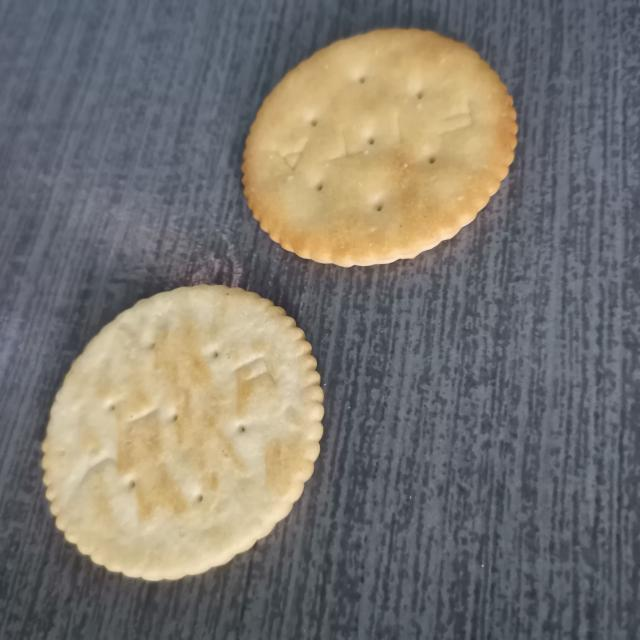Intact: (35, 271, 333, 589), (228, 21, 535, 280)
